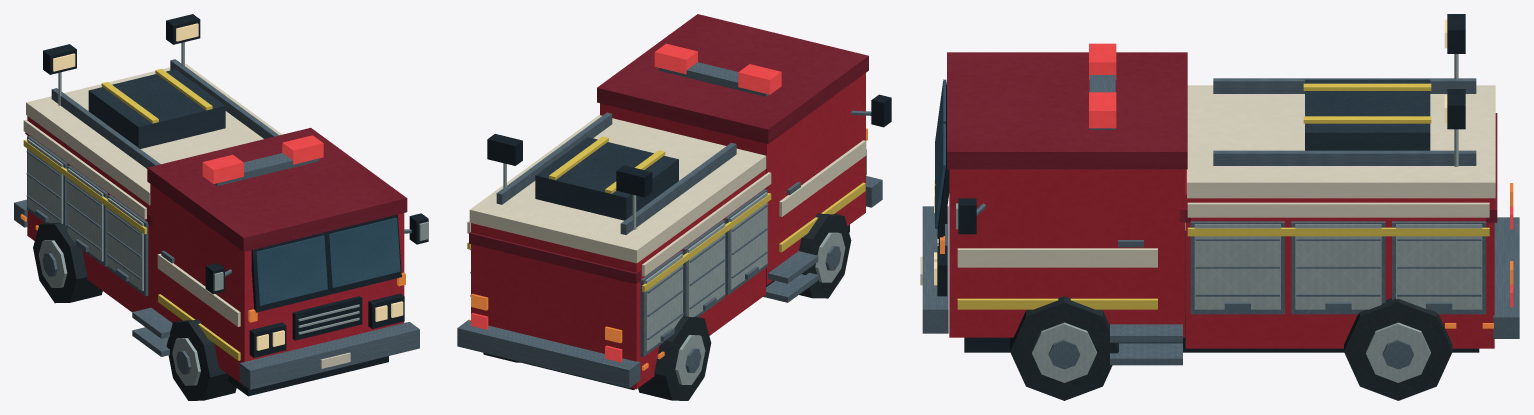
File: response-unit-lod.glb
3 renders of one model, left to right at view 1: azimuth 30°, elevation 25°; view 2: azimuth 150°, elevation 25°; view 3: azimuth 270°, elevation 25°, orthographic. The views are drawn at different scales.
Visible parts, largest first — view 1: response-unit-lod; view 2: response-unit-lod; view 3: response-unit-lod.
Boxes of the visible parts, x1,y1,x2,y2 form: response-unit-lod: (14,14,428,400); response-unit-lod: (457,14,891,400); response-unit-lod: (920,14,1519,400).
Bounding box in the file's own units: 2.73 × 2.77 × 5.26.
Materials: 4 (4 with a texture image).
